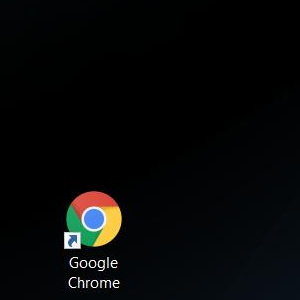chrome: (63, 190, 122, 250)
